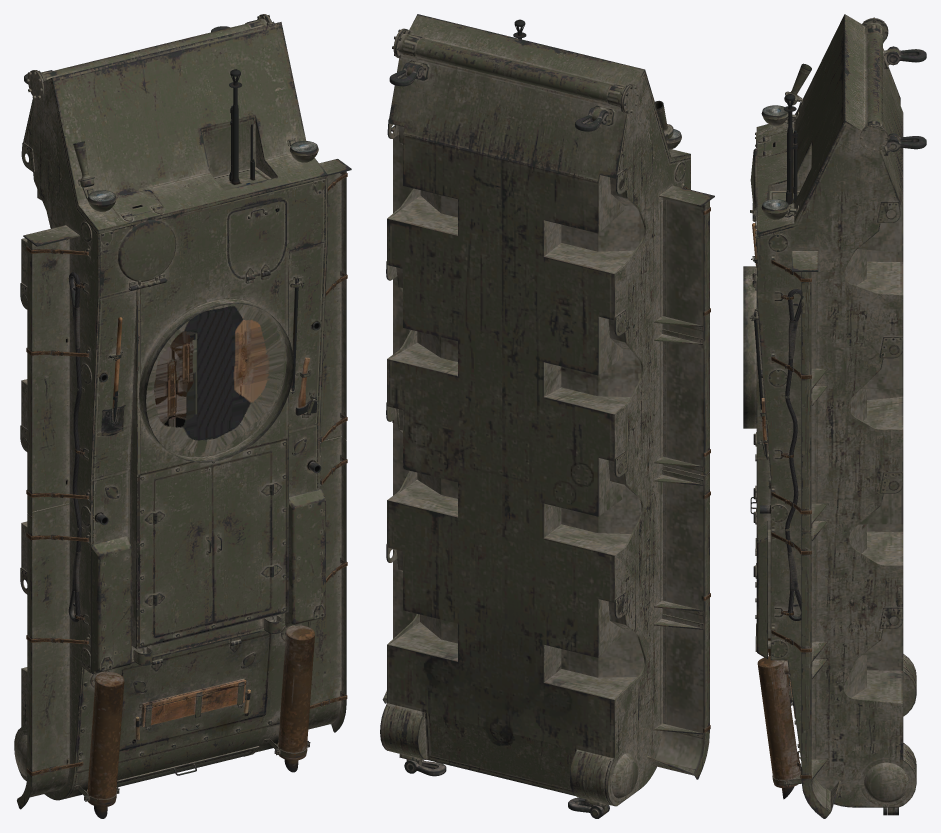
Rendered from Hull.glb.
The picture shows the model from 3 angles, left to right: view 1: azimuth 30°, elevation 25°; view 2: azimuth 150°, elevation 25°; view 3: azimuth 270°, elevation 25°; orthographic projection. The views are drawn at different scales.
Parts seen in each view (by area): view 1: set_0_group_0; view 2: set_0_group_0; view 3: set_0_group_0.
Part boxes in pixels (x1,y1,x2,y2): set_0_group_0: [14, 14, 351, 818]; set_0_group_0: [380, 14, 714, 818]; set_0_group_0: [743, 14, 926, 818].
Size of the model in its own units: 2.89 by 6.47 by 1.53.
1 material, 1 textured.
